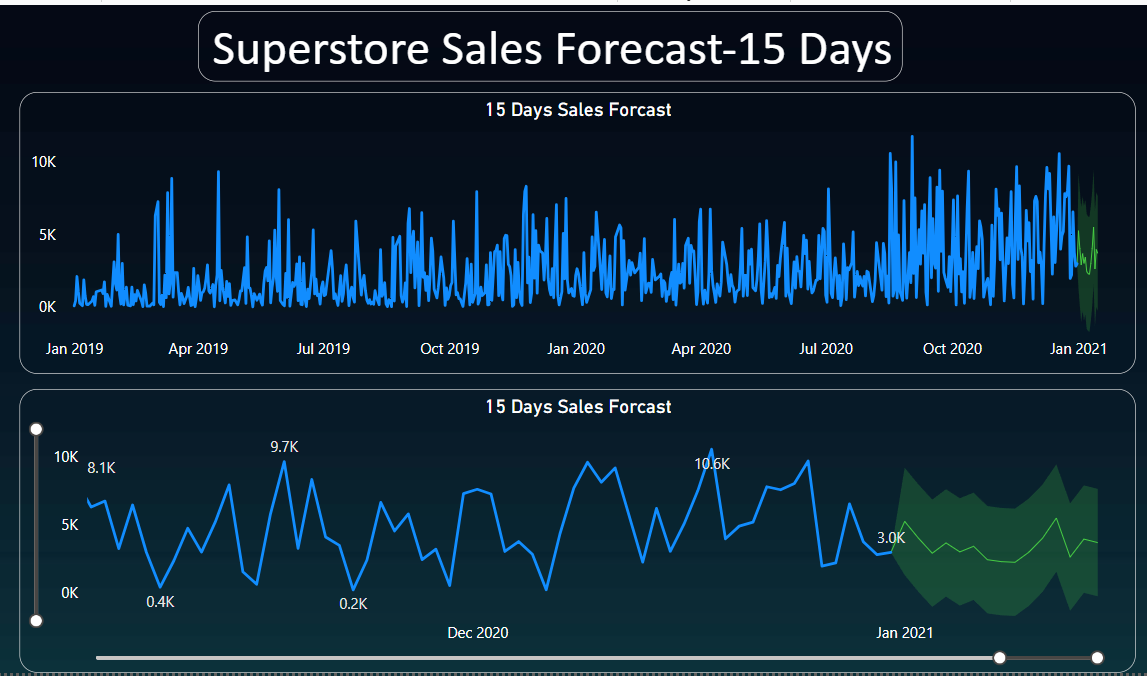

The dashboard page shown, as its layout file describes it:
{"tool":"powerbi","page":{"name":"Page 1","canvas":[1280,720],"ordinal":1},"visuals":[{"type":"lineChart","title":"15 Days Sales Forcast","fields":{"Y":["Sum(SuperStore_Sales_Dataset.Sales)"],"Category":["SuperStore_Sales_Dataset.Order Date.Variation.Date Hierarchy.Year","SuperStore_Sales_Dataset.Order Date.Variation.Date Hierarchy.Quarter","SuperStore_Sales_Dataset.Order Date.Variation.Date Hierarchy.Month","SuperStore_Sales_Dataset.Order Date.Variation.Date Hierarchy.Day"]},"box":[60,94,1204,304],"z":0},{"type":"lineChart","title":"15 Days Sales Forcast","fields":{"Y":["Sum(SuperStore_Sales_Dataset.Sales)"],"Category":["SuperStore_Sales_Dataset.Order Date.Variation.Date Hierarchy.Year","SuperStore_Sales_Dataset.Order Date.Variation.Date Hierarchy.Quarter","SuperStore_Sales_Dataset.Order Date.Variation.Date Hierarchy.Month","SuperStore_Sales_Dataset.Order Date.Variation.Date Hierarchy.Day"]},"box":[60,414,1204,306],"z":1000},{"type":"textbox","box":[252,6,760,76],"z":2000}]}

Visuals, with their boxes on the page's 1280x720 design canvas (x1, y1, x2, y2). These are canvas units, not pixel positions in the 1147x676 screenshot, which may show the page scaled, cropped or inside an application window:
"15 Days Sales Forcast" lineChart: 60,94,1264,398
"15 Days Sales Forcast" lineChart: 60,414,1264,720
textbox: 252,6,1012,82
